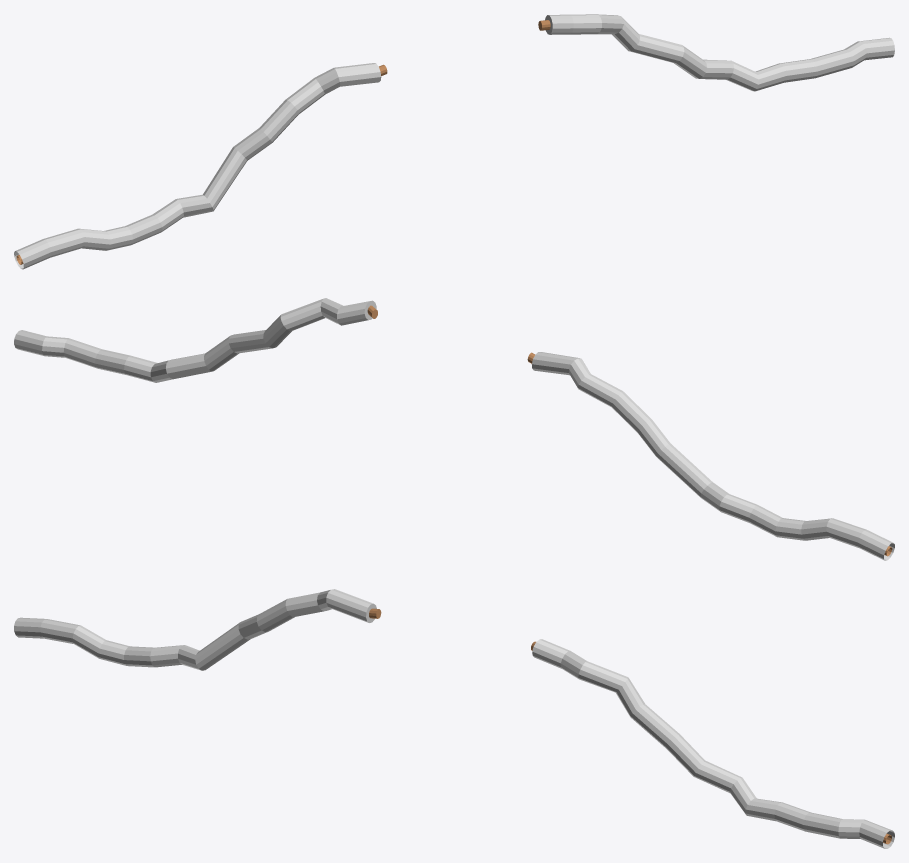
The model's file is cutwire2.fbx.
3 renders of one model, top to bottom at view 1: azimuth 30°, elevation 25°; view 2: azimuth 150°, elevation 25°; view 3: azimuth 330°, elevation 25°, orthographic.
Visible parts, largest first — view 1: WireCasing; view 2: WireCasing; view 3: WireCasing.
Boxes of the visible parts, x1=… form: WireCasing: x1=14, y1=14, x2=894, y2=269; WireCasing: x1=14, y1=298, x2=894, y2=560; WireCasing: x1=14, y1=589, x2=894, y2=848.
Size of the model in its own units: 302 by 43.16 by 12.47.
